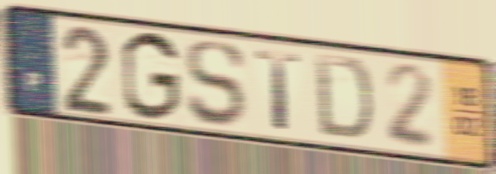2: (59, 20, 115, 120), (382, 60, 438, 154)
D: (312, 50, 375, 144)
G: (118, 28, 182, 124)
S: (183, 38, 248, 129)
T: (253, 47, 305, 134)
